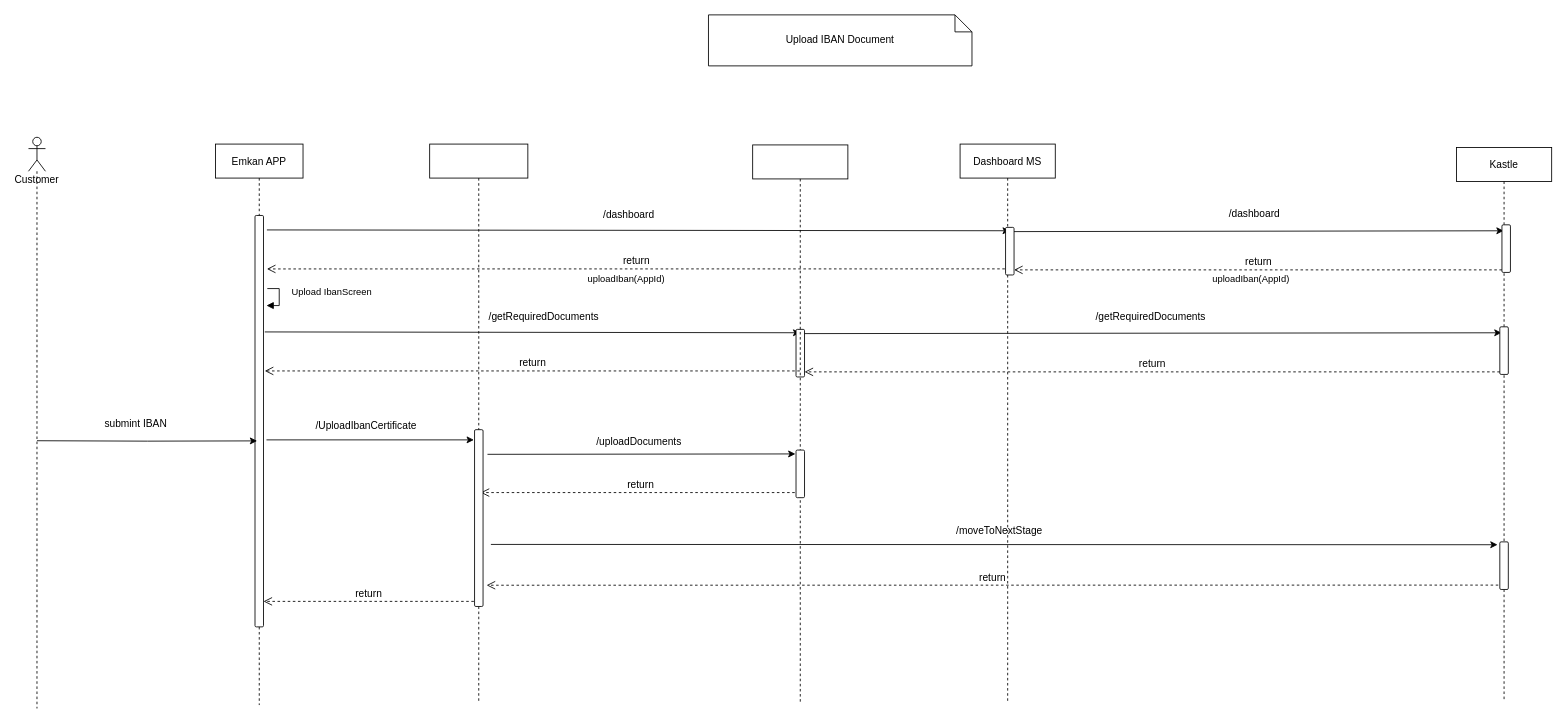
Image size: 1567x723. Some labels were removed from this diagram. The shapes that lost their labels are listed below. From the top down, each one's centre as x and y in pixels, then its label:
pixel 478 422: Loan Execution MS
pixel 800 423: DMS MS
